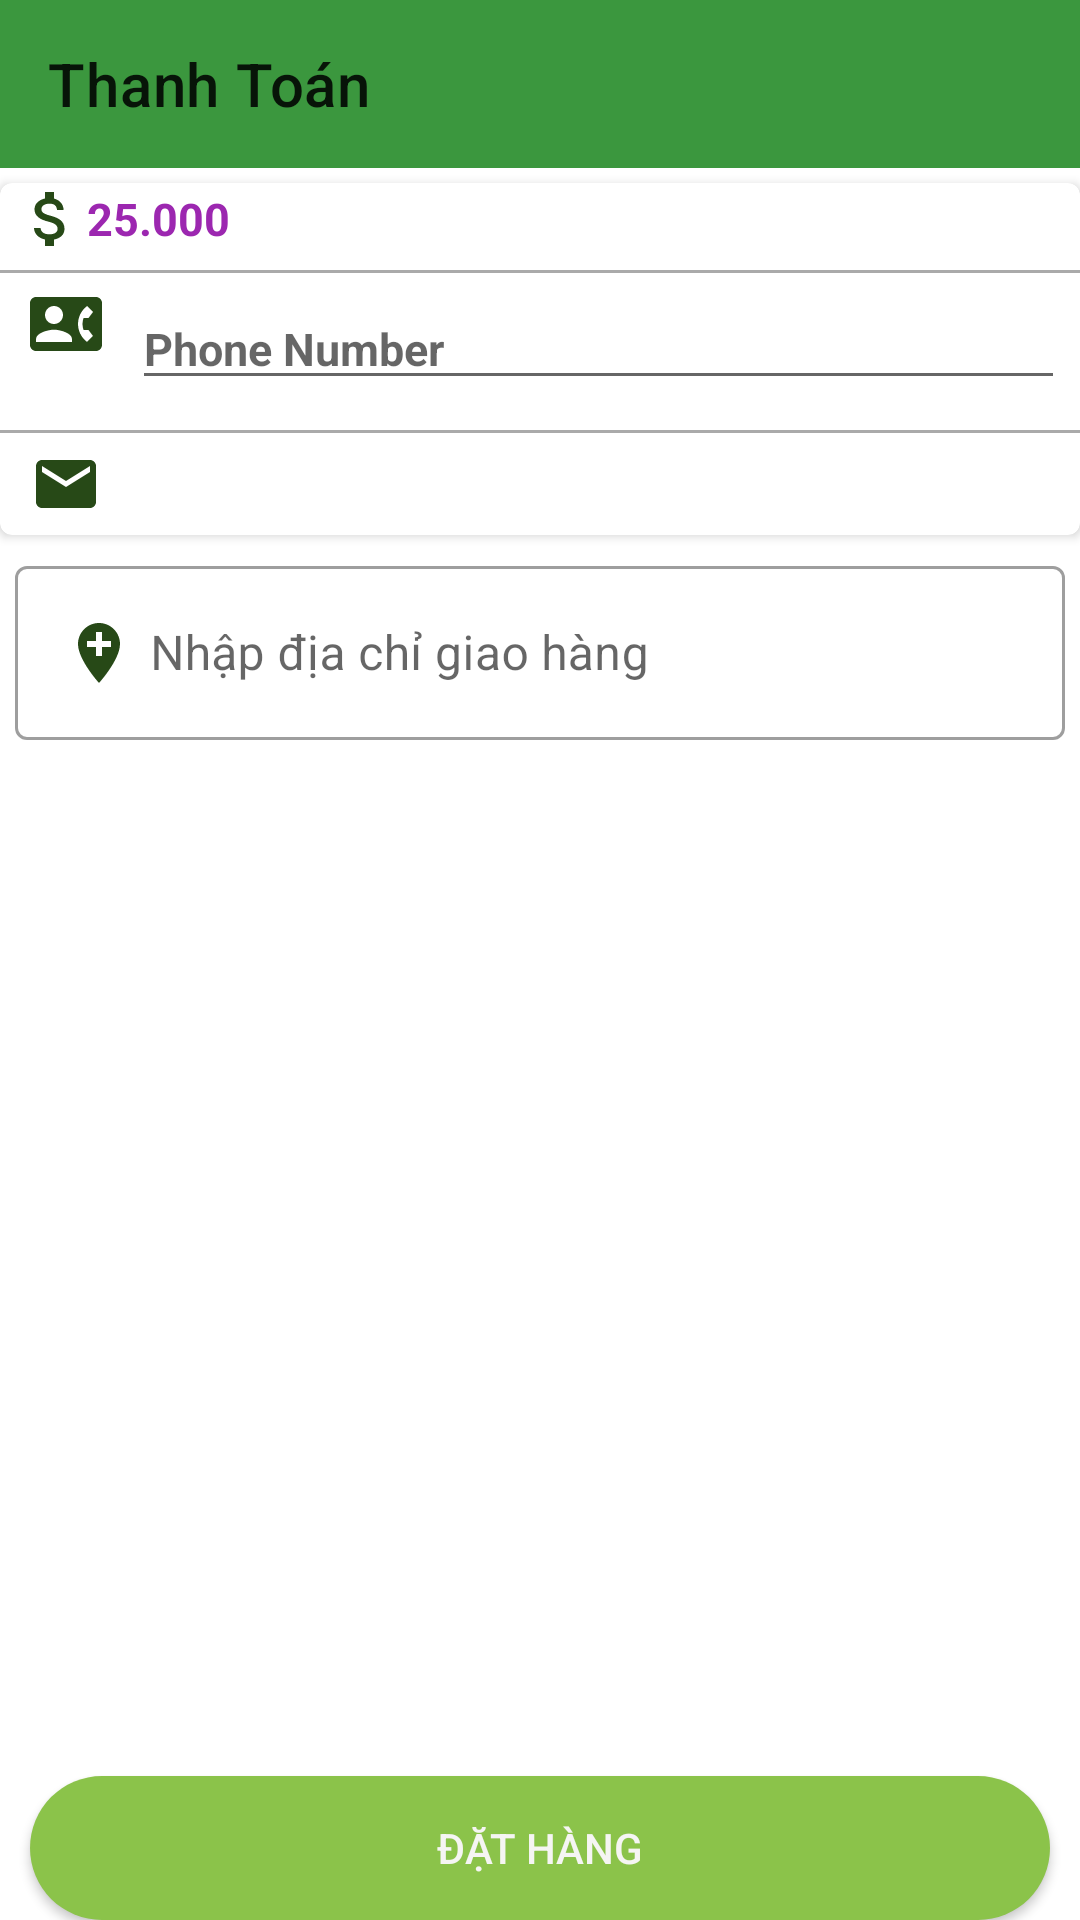

Locate icon controls on the screen. Image size 1080w x 1920h, boxes as (x1, y1, x2, y2).
attach money: (34, 192, 65, 246)
contact phone: (30, 297, 102, 351)
email: (36, 460, 96, 508)
